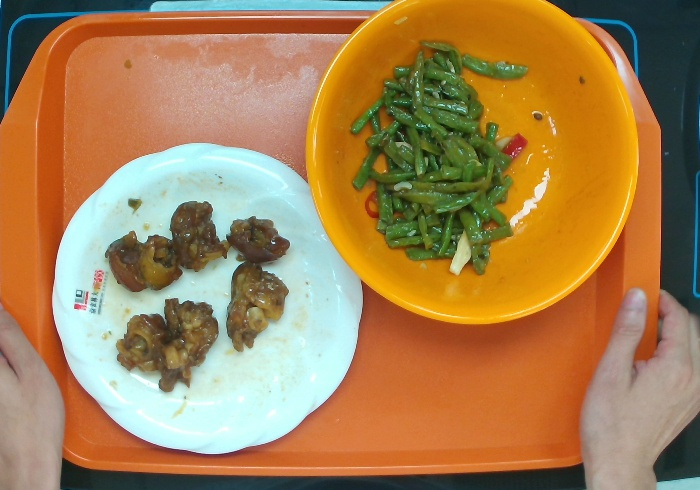ZNLD-Hua_Bian_Wan: (46, 139, 373, 460)
ZNLD-Ju_Se_Tang_Wan: (298, 1, 643, 335)
